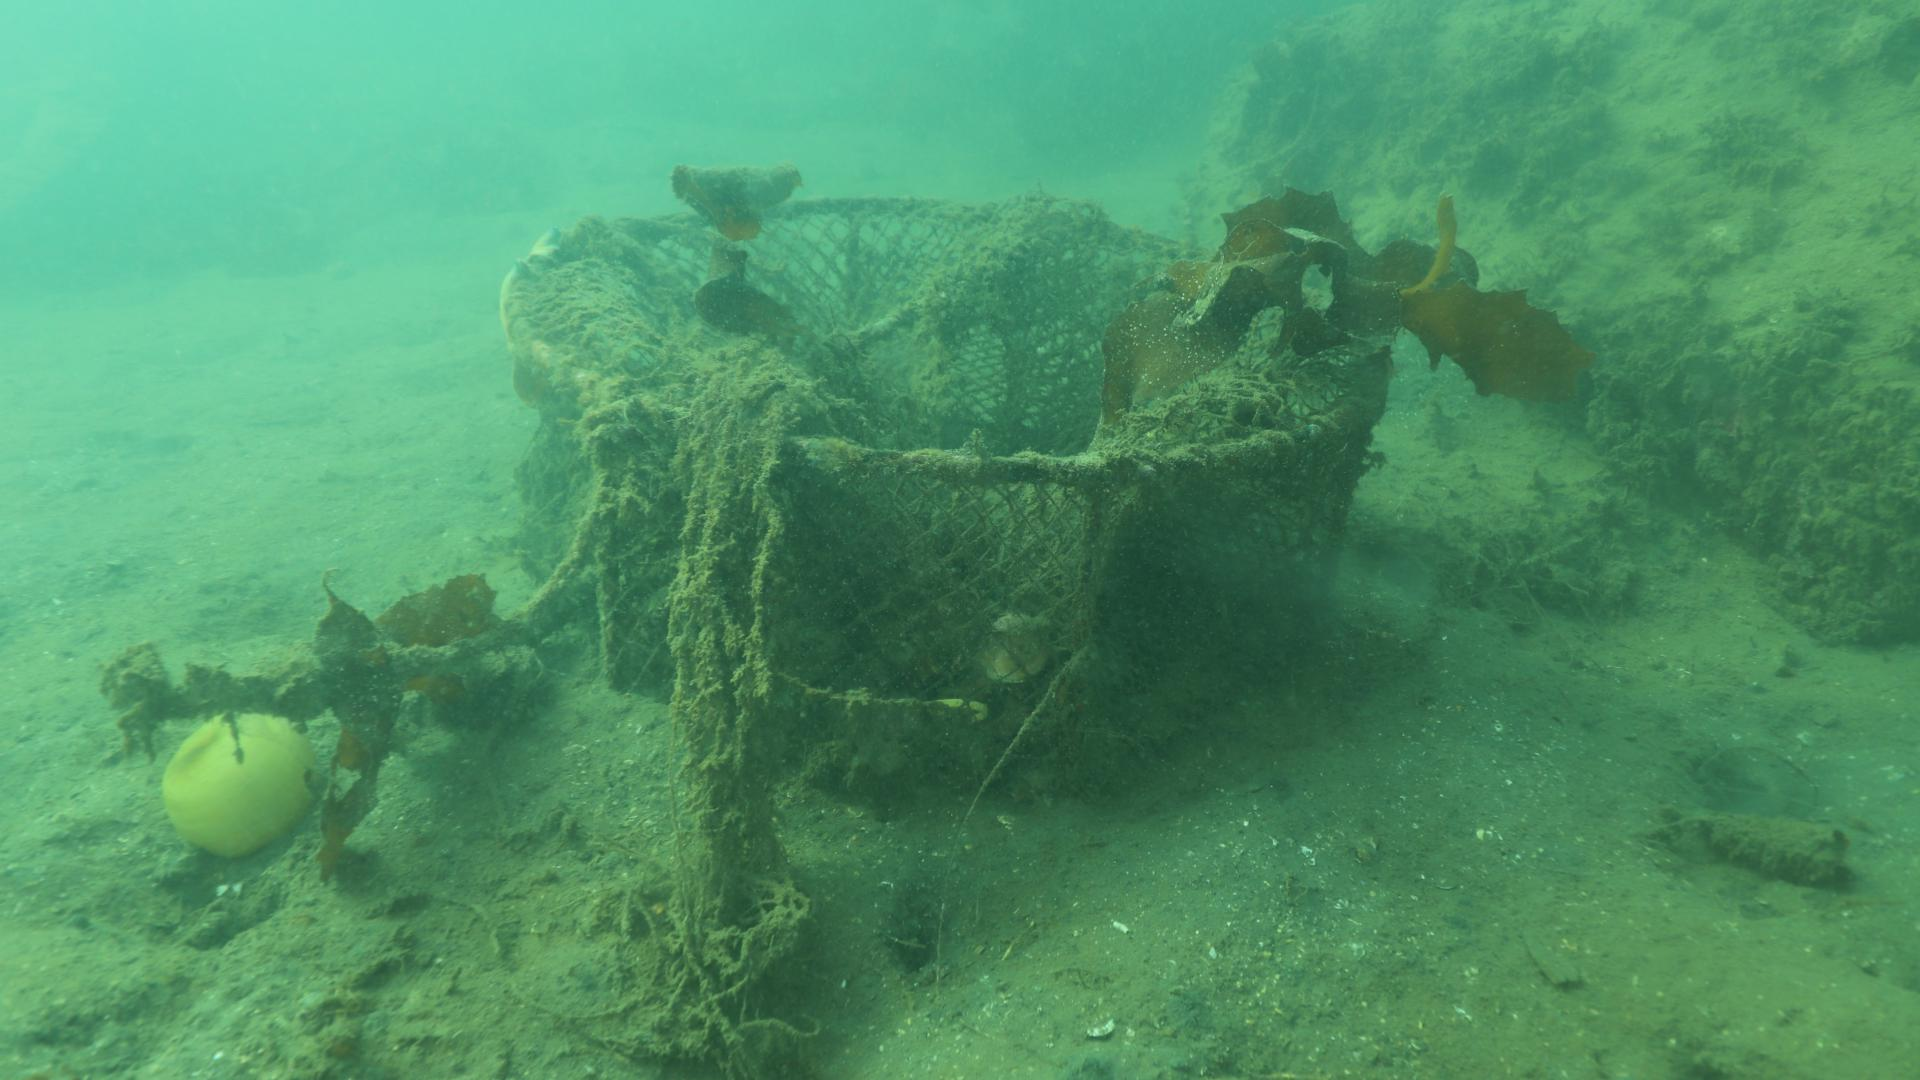circular fish trap: (497, 194, 1393, 766)
